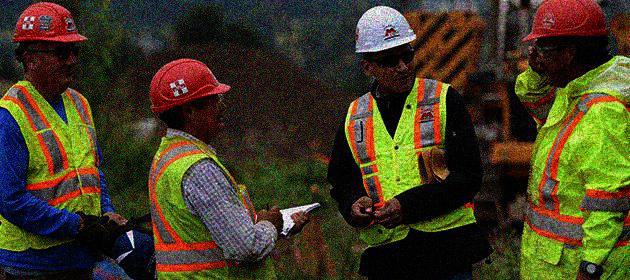helmet: (522, 1, 612, 85), (146, 57, 232, 139), (12, 1, 88, 88), (352, 4, 421, 93)
